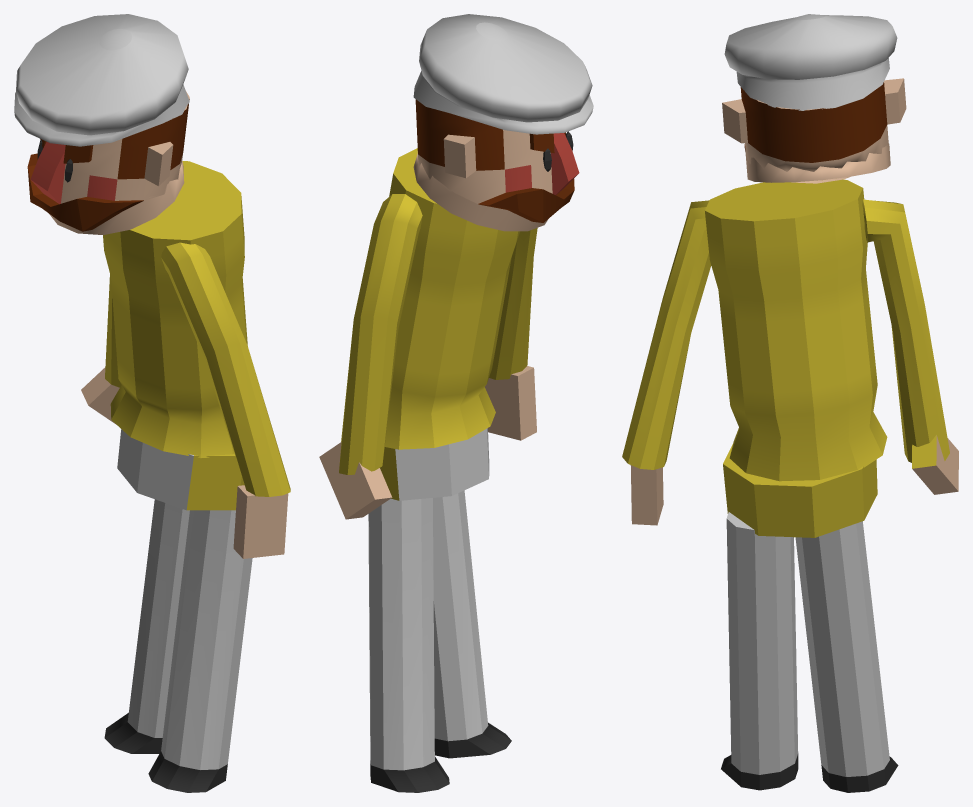
Rendered from md_golfspectator.fbx.
3 views of the same model, side by side, from view 1: azimuth 30°, elevation 25°; view 2: azimuth 150°, elevation 25°; view 3: azimuth 270°, elevation 25° (orthographic).
Parts seen in each view (by area): view 1: pCylinder36; view 2: pCylinder36; view 3: pCylinder36.
Part boxes in pixels (bbox=[...]): pCylinder36: bbox=[14, 14, 290, 792]; pCylinder36: bbox=[319, 14, 593, 792]; pCylinder36: bbox=[622, 14, 958, 792].
Size of the model in its own units: 0.9313 by 2.96 by 1.22.
